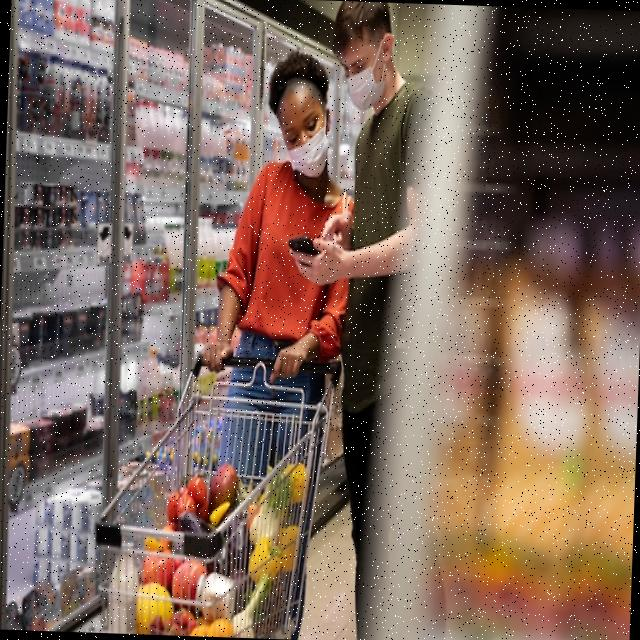Person: (274, 0, 465, 640), (190, 44, 359, 640)
